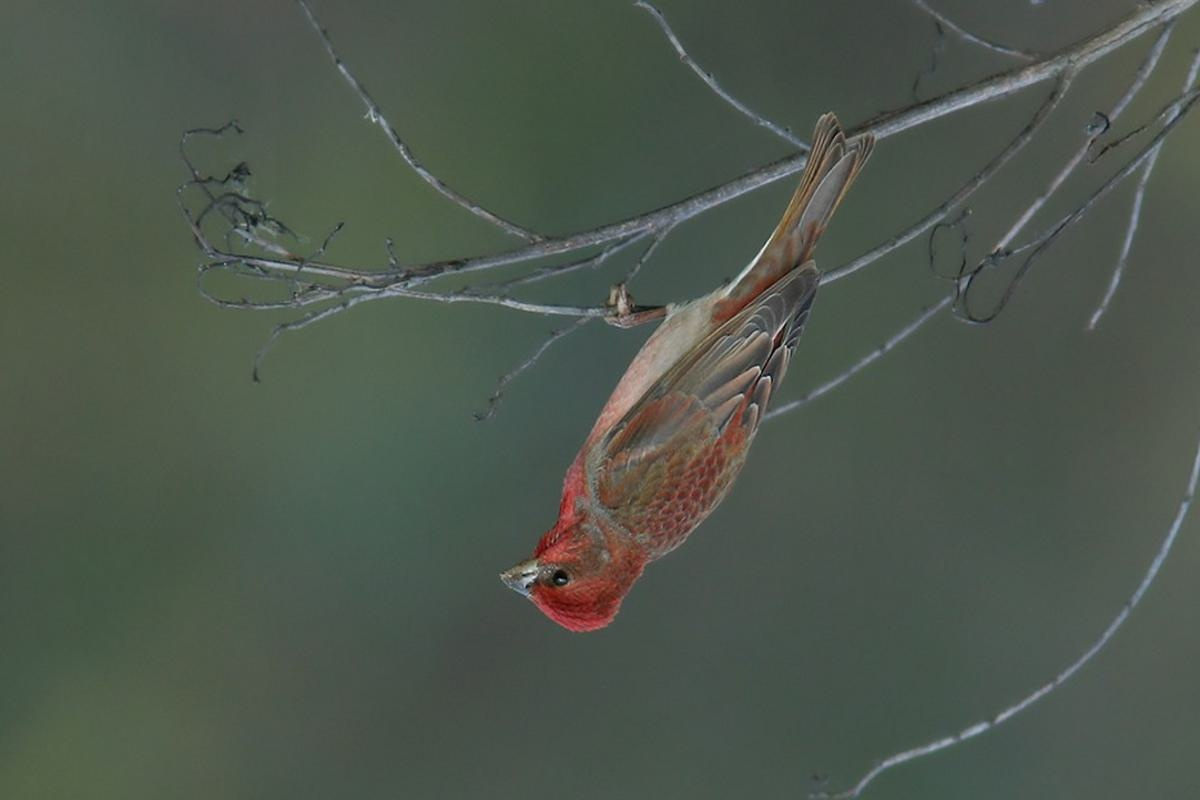rosefinch: (513, 125, 938, 654)
